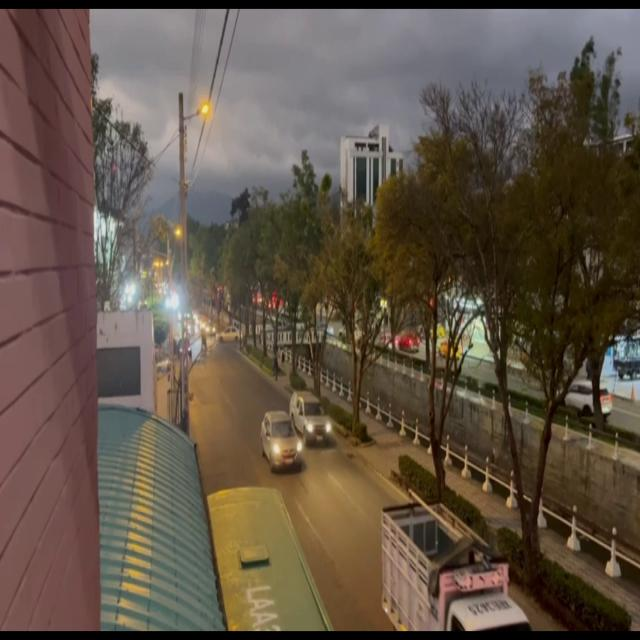CMT: (294, 393, 332, 444)
SUV: (263, 414, 296, 471)
TRUCK: (385, 511, 528, 633)
